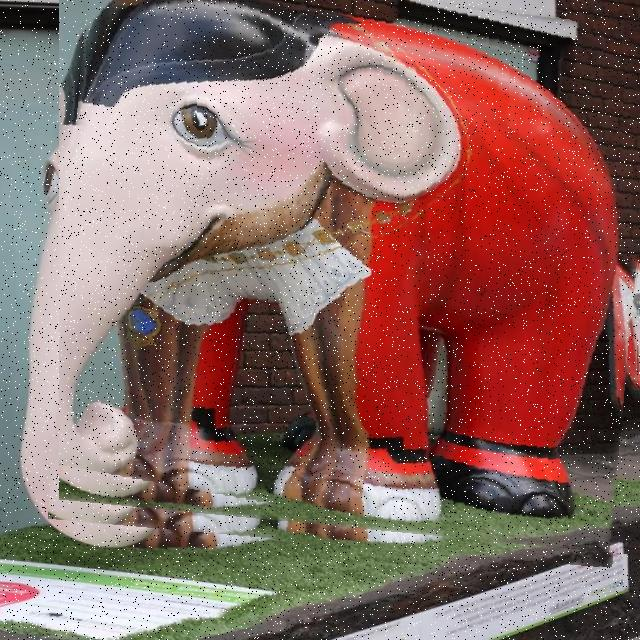elephant: (59, 0, 640, 555)
